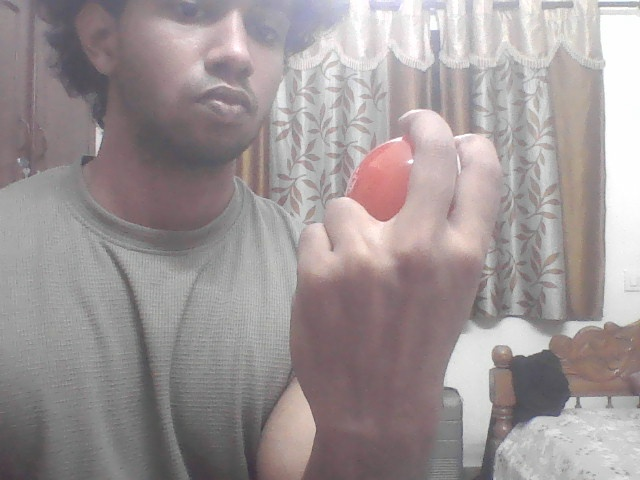cricket_ball: (333, 137, 460, 225)
